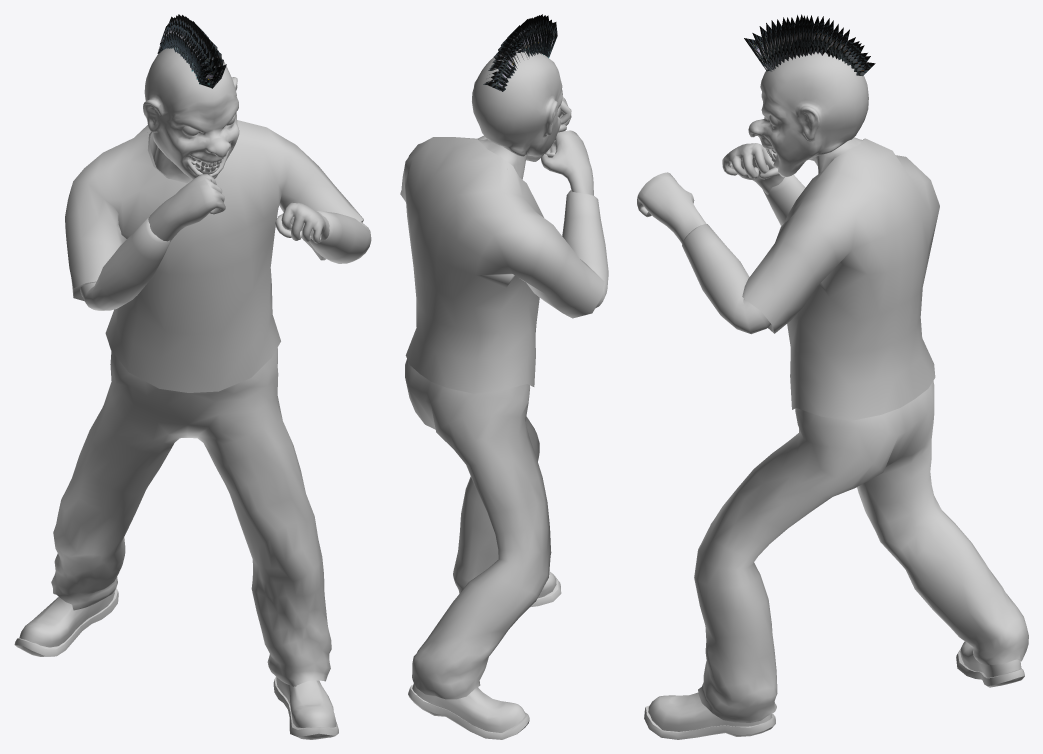
Rendered from Idle (60).obj.
3 renders of one model, left to right at view 1: azimuth 30°, elevation 25°; view 2: azimuth 150°, elevation 25°; view 3: azimuth 270°, elevation 25°, orthographic. The views are drawn at different scales.
Parts seen in each view (by area): view 1: pants, shirt, head, forearm_band_01, boots, hand_right, boots001, Hair, forearm_band_002, hand_left, neck; view 2: shirt, pants, head, boots, forearm_band_01, Hair, hand_right, neck, boots001; view 3: pants, shirt, head, forearm_band_002, Hair, boots001, hand_left, hand_right, boots, forearm_band_01.
Boxes of the visible parts, x1,y1,x2,y2 form: pants: (51, 348, 331, 686); shirt: (65, 120, 363, 392); head: (143, 48, 239, 179); forearm_band_01: (80, 216, 170, 310); boots: (14, 588, 118, 656); hand_right: (148, 174, 225, 241); boots001: (273, 676, 338, 739); Hair: (157, 14, 226, 88); forearm_band_002: (309, 210, 371, 263); hand_left: (275, 202, 329, 243); neck: (147, 132, 192, 183); shirt: (400, 137, 604, 393); pants: (405, 359, 551, 699); head: (472, 51, 562, 161); boots: (408, 683, 529, 739); forearm_band_01: (562, 190, 608, 308); Hair: (483, 14, 557, 91); hand_right: (541, 130, 593, 195); neck: (478, 139, 527, 179); boots001: (530, 571, 561, 607); pants: (694, 381, 1028, 722); shirt: (742, 138, 939, 420); head: (748, 52, 868, 177); forearm_band_002: (682, 224, 770, 334); Hair: (744, 14, 875, 75); boots001: (644, 692, 775, 739); hand_left: (637, 172, 706, 243); hand_right: (722, 143, 784, 194); boots: (956, 641, 1024, 687); forearm_band_01: (763, 174, 805, 226).
Bounding box in the file's own units: 70.1 × 183 × 94.33.
